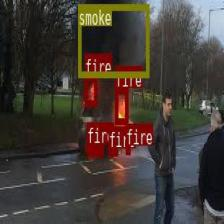fire: (114, 88, 128, 123), (84, 74, 96, 105), (86, 144, 103, 154), (108, 147, 117, 154), (125, 144, 130, 154)
smoke: (78, 4, 148, 76)
